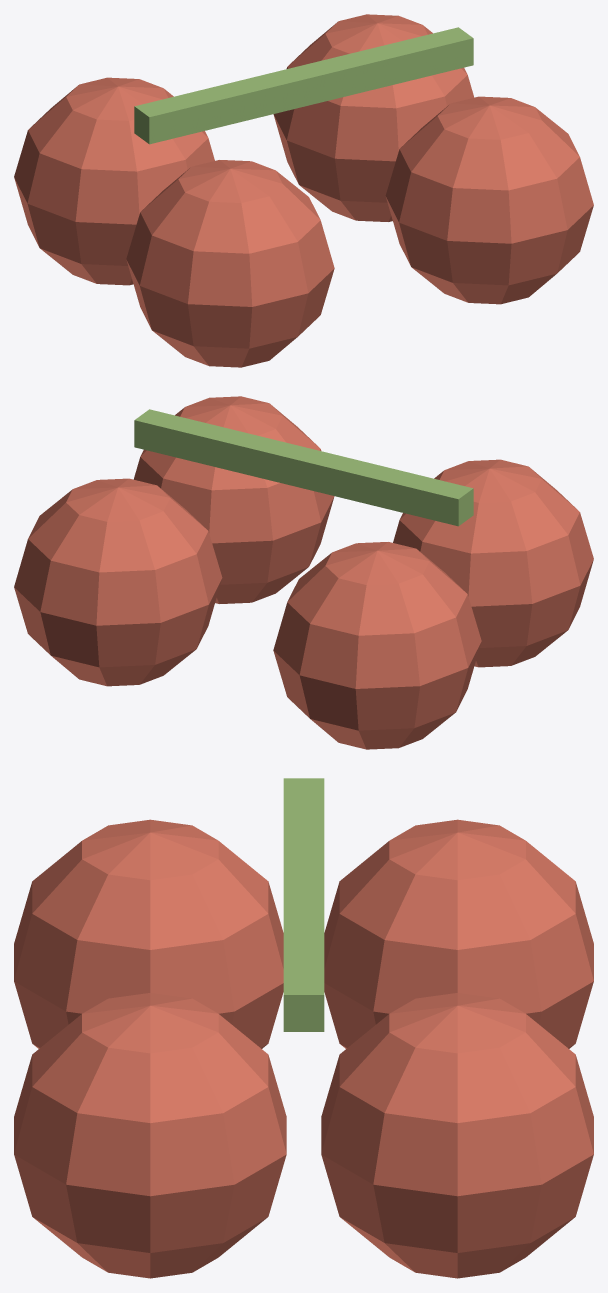
Rendered from supermarket-operations-tomato-vine-e31b5a69__26928.glb.
The picture shows the model from 3 angles, top to bottom: view 1: azimuth 30°, elevation 25°; view 2: azimuth 150°, elevation 25°; view 3: azimuth 270°, elevation 25°; orthographic projection. The views are drawn at different scales.
Visible parts, largest first — view 1: tomato-vine; view 2: tomato-vine; view 3: tomato-vine.
Part boxes in pixels (box(x1,y1,x2,y2)): tomato-vine: box(14, 14, 593, 367); tomato-vine: box(14, 396, 593, 749); tomato-vine: box(14, 778, 593, 1278).
Size of the model in its own units: 0.136 by 0.063 by 0.1133.
